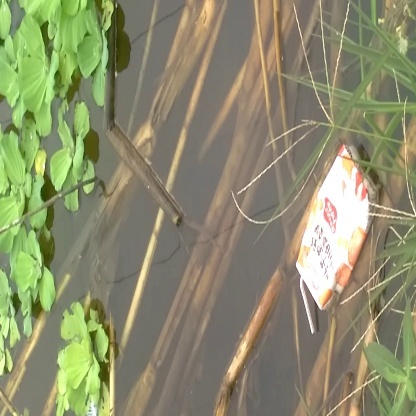milk-box: (284, 144, 381, 324)
